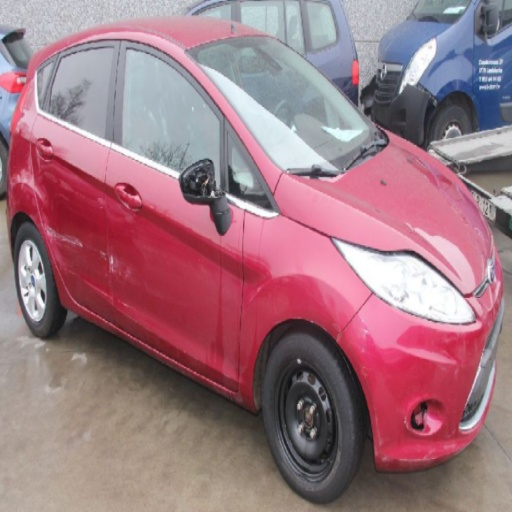dent: (476, 251, 504, 321)
scratch: (63, 267, 136, 312), (45, 224, 83, 247), (99, 249, 130, 277)
